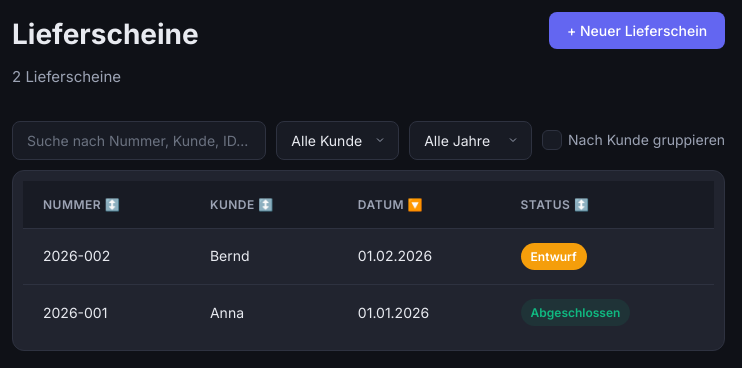
DocumentManager › filtert die Liste über die Suche
expect the text "2026-001" is shown: met, box [23, 285, 190, 340]
Type "Bernd" into the field with placeholder "Suche nach Nummer, Kunde, ID...".
click(139, 140); type("Bernd")  # box [12, 121, 266, 160]
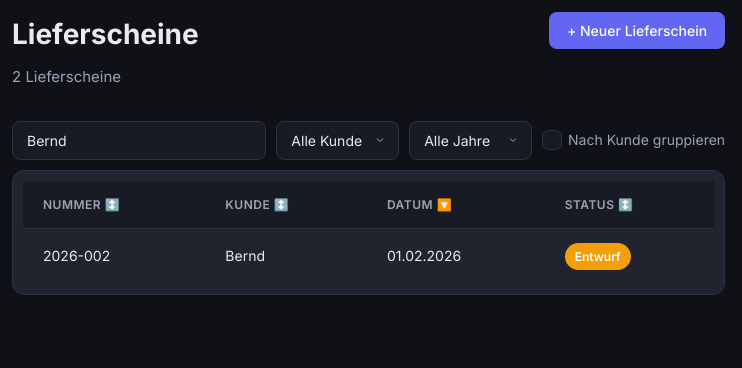
expect the text "2026-002" is shown: met, box [23, 228, 205, 284]
expect the text "2026-001" is gone: met
